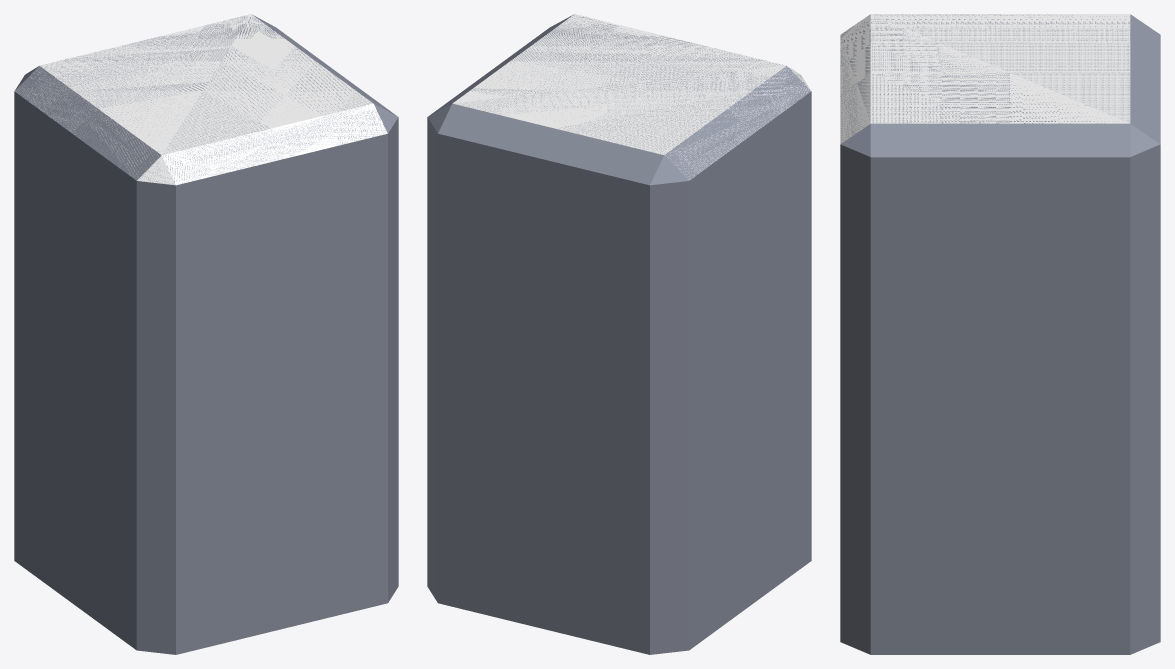
The model's file is Trash_Can.dae.
3 renders of one model, left to right at view 1: azimuth 30°, elevation 25°; view 2: azimuth 150°, elevation 25°; view 3: azimuth 270°, elevation 25°, orthographic. The views are drawn at different scales.
Visible parts, largest first — view 1: rash_can (×6); view 2: rash_can (×6); view 3: rash_can (×5).
Boxes of the visible parts, left/top/right/bottom form: rash_can (×6): left=14, top=14, right=398, bottom=654; rash_can (×6): left=427, top=14, right=811, bottom=654; rash_can (×5): left=840, top=14, right=1160, bottom=654.
Size of the model in its own units: 21 by 21 by 37.5.
